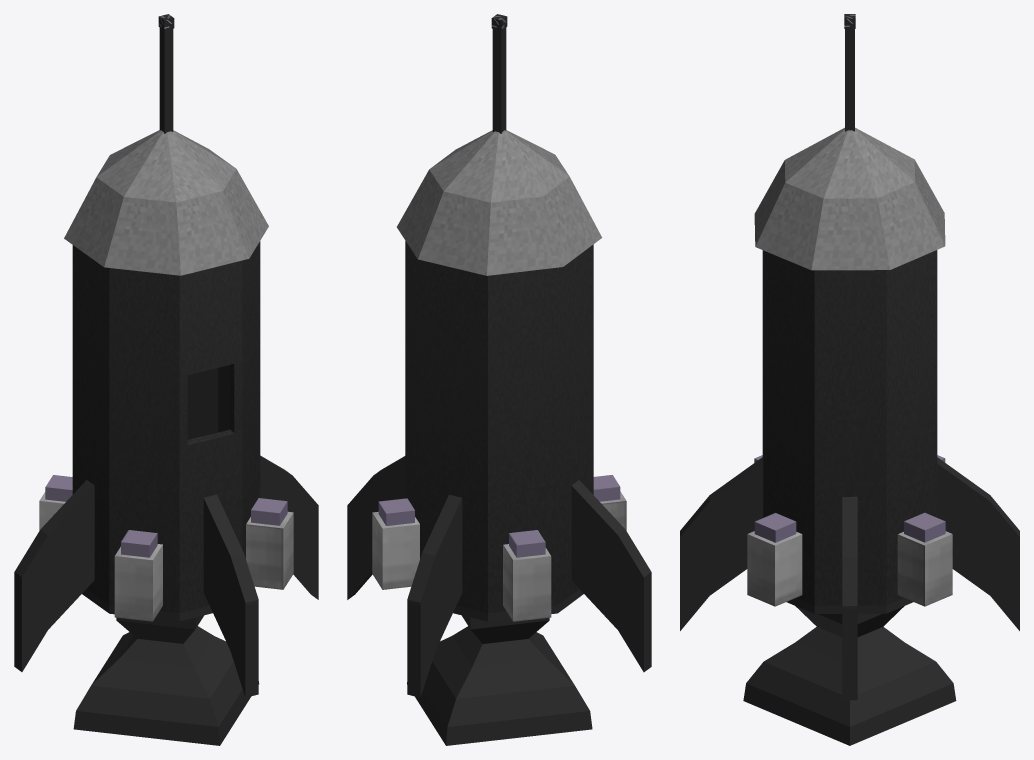
File: tier_5_rocket.obj
The picture shows the model from 3 angles, left to right: view 1: azimuth 30°, elevation 25°; view 2: azimuth 150°, elevation 25°; view 3: azimuth 270°, elevation 25°; orthographic projection.
Visible parts, largest first — view 1: Rocket, NoseCone, Boosters; view 2: Rocket, NoseCone, Boosters; view 3: Rocket, NoseCone, Boosters.
Part boxes in pixels (x1,y1,x2,y2): Rocket: (14, 27, 318, 745); NoseCone: (64, 130, 268, 275); Boosters: (39, 475, 293, 621); Rocket: (347, 27, 651, 745); NoseCone: (397, 130, 602, 275); Boosters: (372, 475, 626, 621); Rocket: (680, 29, 1019, 745); NoseCone: (754, 127, 945, 270); Boosters: (747, 455, 952, 606).
Size of the model in its own units: 3.61 by 8.02 by 3.61.
